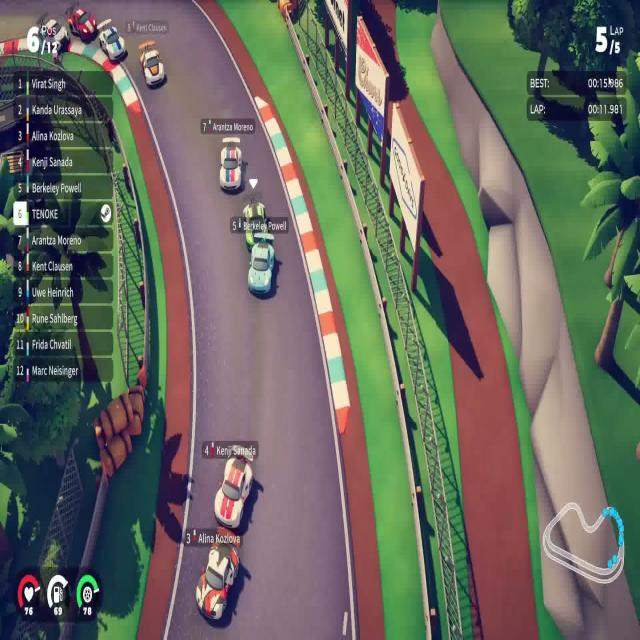car: (195, 541, 240, 622), (213, 454, 254, 530), (242, 196, 273, 250), (247, 240, 275, 296), (218, 136, 242, 193), (139, 46, 165, 88), (98, 25, 126, 63)
